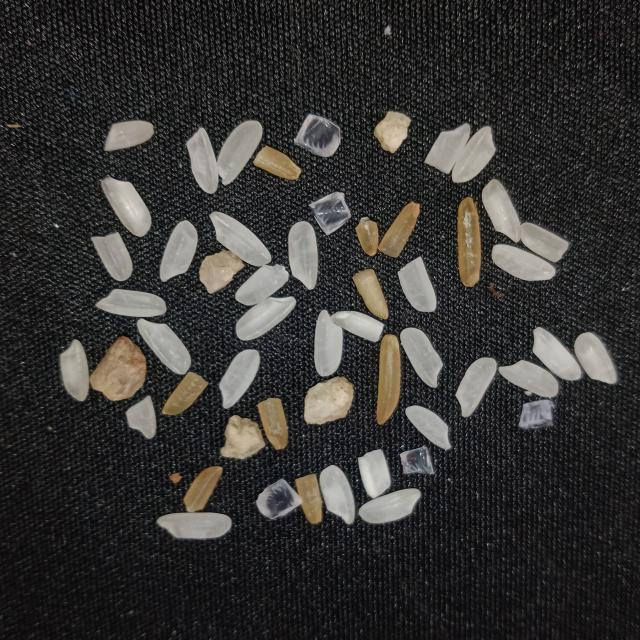Broken: (482, 178, 520, 242), (377, 202, 420, 258), (424, 122, 470, 174), (236, 265, 290, 307), (398, 256, 438, 312), (458, 197, 482, 287), (160, 372, 208, 416), (90, 233, 132, 283), (517, 222, 569, 262), (352, 268, 390, 320), (182, 466, 222, 512), (330, 310, 384, 344), (358, 447, 392, 498), (252, 146, 302, 180), (258, 397, 290, 450), (104, 121, 154, 152), (295, 473, 323, 524), (127, 396, 157, 440), (354, 216, 379, 256)
Full: (210, 212, 272, 268), (100, 176, 152, 238), (215, 120, 262, 186), (136, 319, 190, 376), (234, 296, 295, 341), (400, 327, 444, 389), (532, 327, 582, 381), (451, 125, 496, 183), (454, 357, 496, 417), (219, 349, 261, 409), (159, 220, 197, 282), (498, 360, 559, 398), (489, 246, 553, 282), (574, 332, 618, 384), (358, 488, 420, 524), (378, 332, 402, 424), (186, 126, 218, 194), (319, 464, 355, 524), (405, 404, 451, 450), (157, 512, 232, 540), (286, 221, 316, 291), (312, 310, 342, 378), (95, 290, 167, 318), (60, 339, 90, 402)
